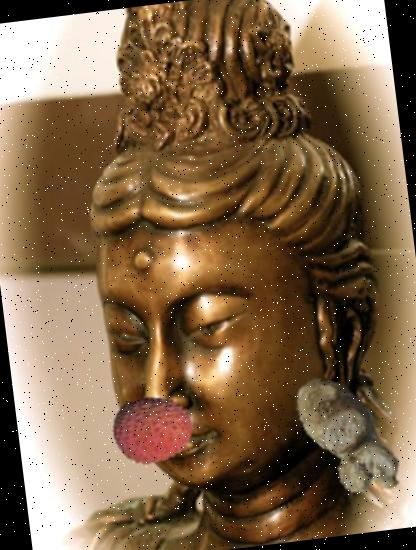Ginger: (268, 360, 416, 517)
Lychee: (106, 386, 198, 478)
